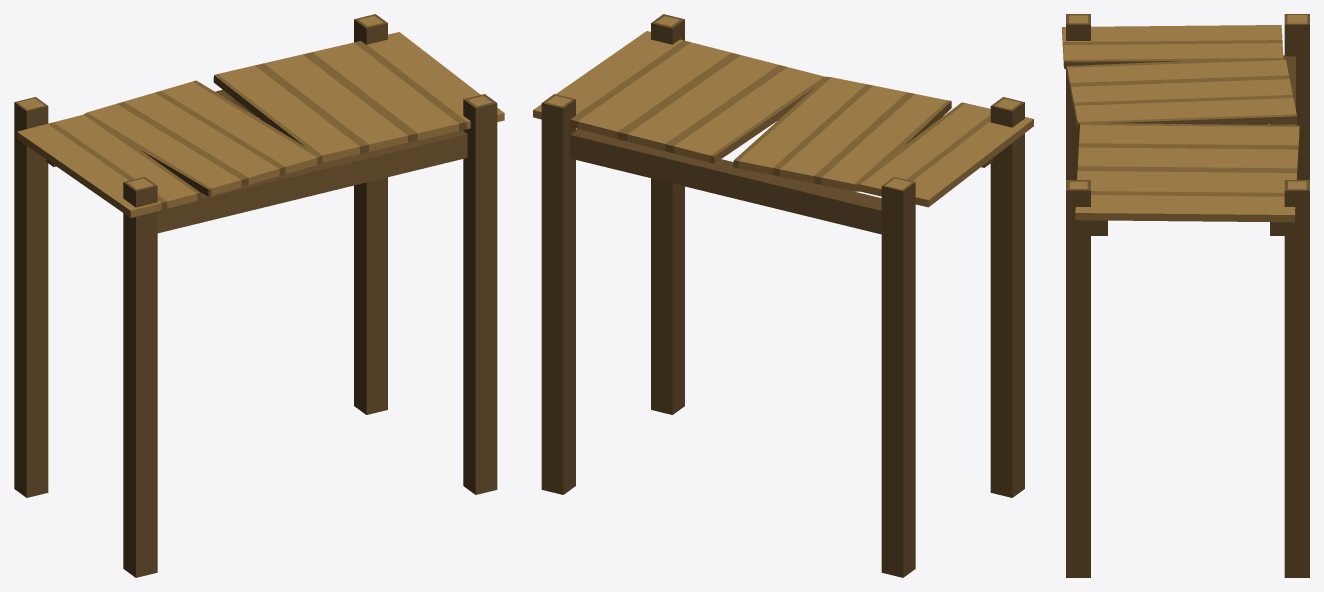
File: Walkway_02.fbx
The picture shows the model from 3 angles, left to right: view 1: azimuth 30°, elevation 25°; view 2: azimuth 150°, elevation 25°; view 3: azimuth 270°, elevation 25°; orthographic projection.
Visible parts, largest first — view 1: Walkway_02; view 2: Walkway_02; view 3: Walkway_02.
Part boxes in pixels (x1,y1,x2,y2): Walkway_02: (14,14,504,577); Walkway_02: (533,14,1033,577); Walkway_02: (1062,14,1309,577).
Bounding box in the file's own units: 6 × 3.3 × 5.7.
